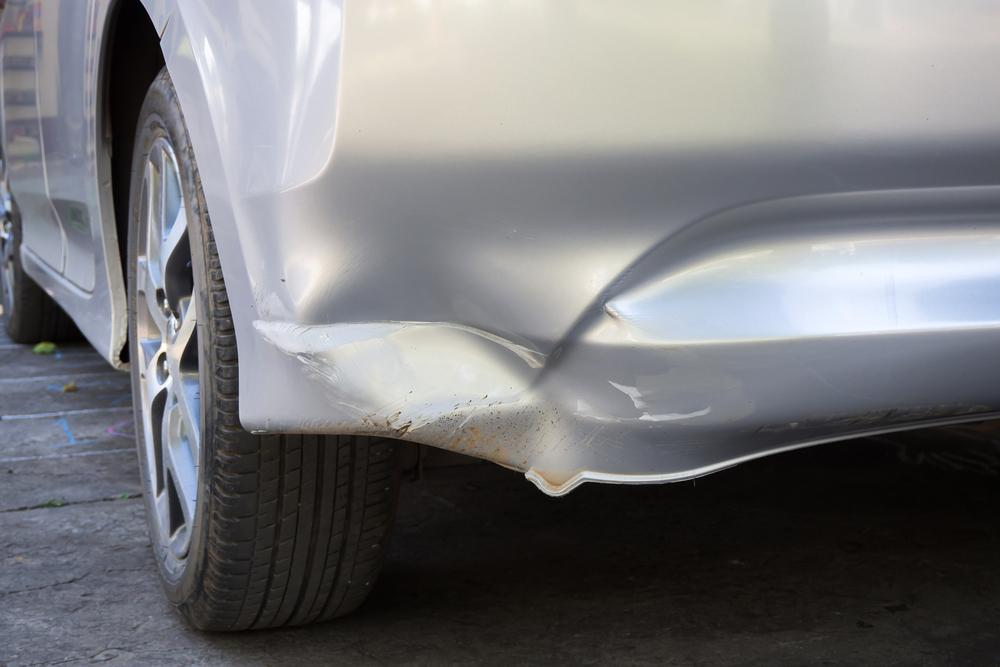dent: (235, 142, 754, 495)
